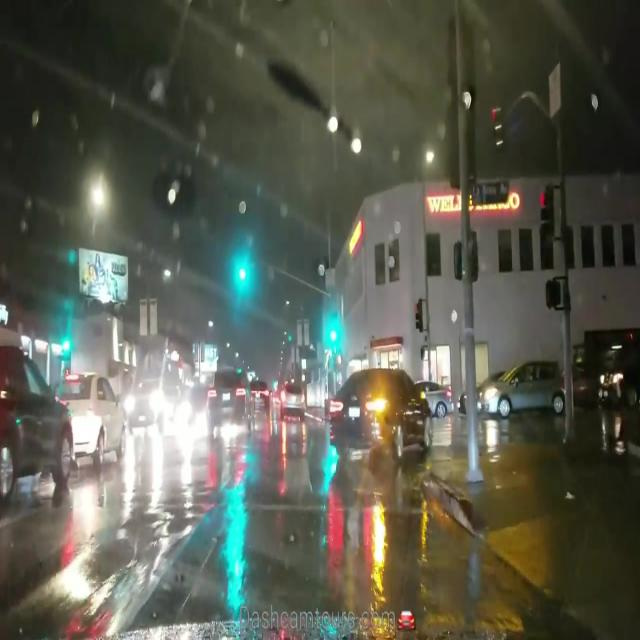Car: (1, 344, 69, 516), (327, 366, 430, 461), (66, 363, 121, 472), (478, 360, 561, 419), (122, 374, 169, 446), (206, 368, 249, 427), (278, 380, 305, 415)
